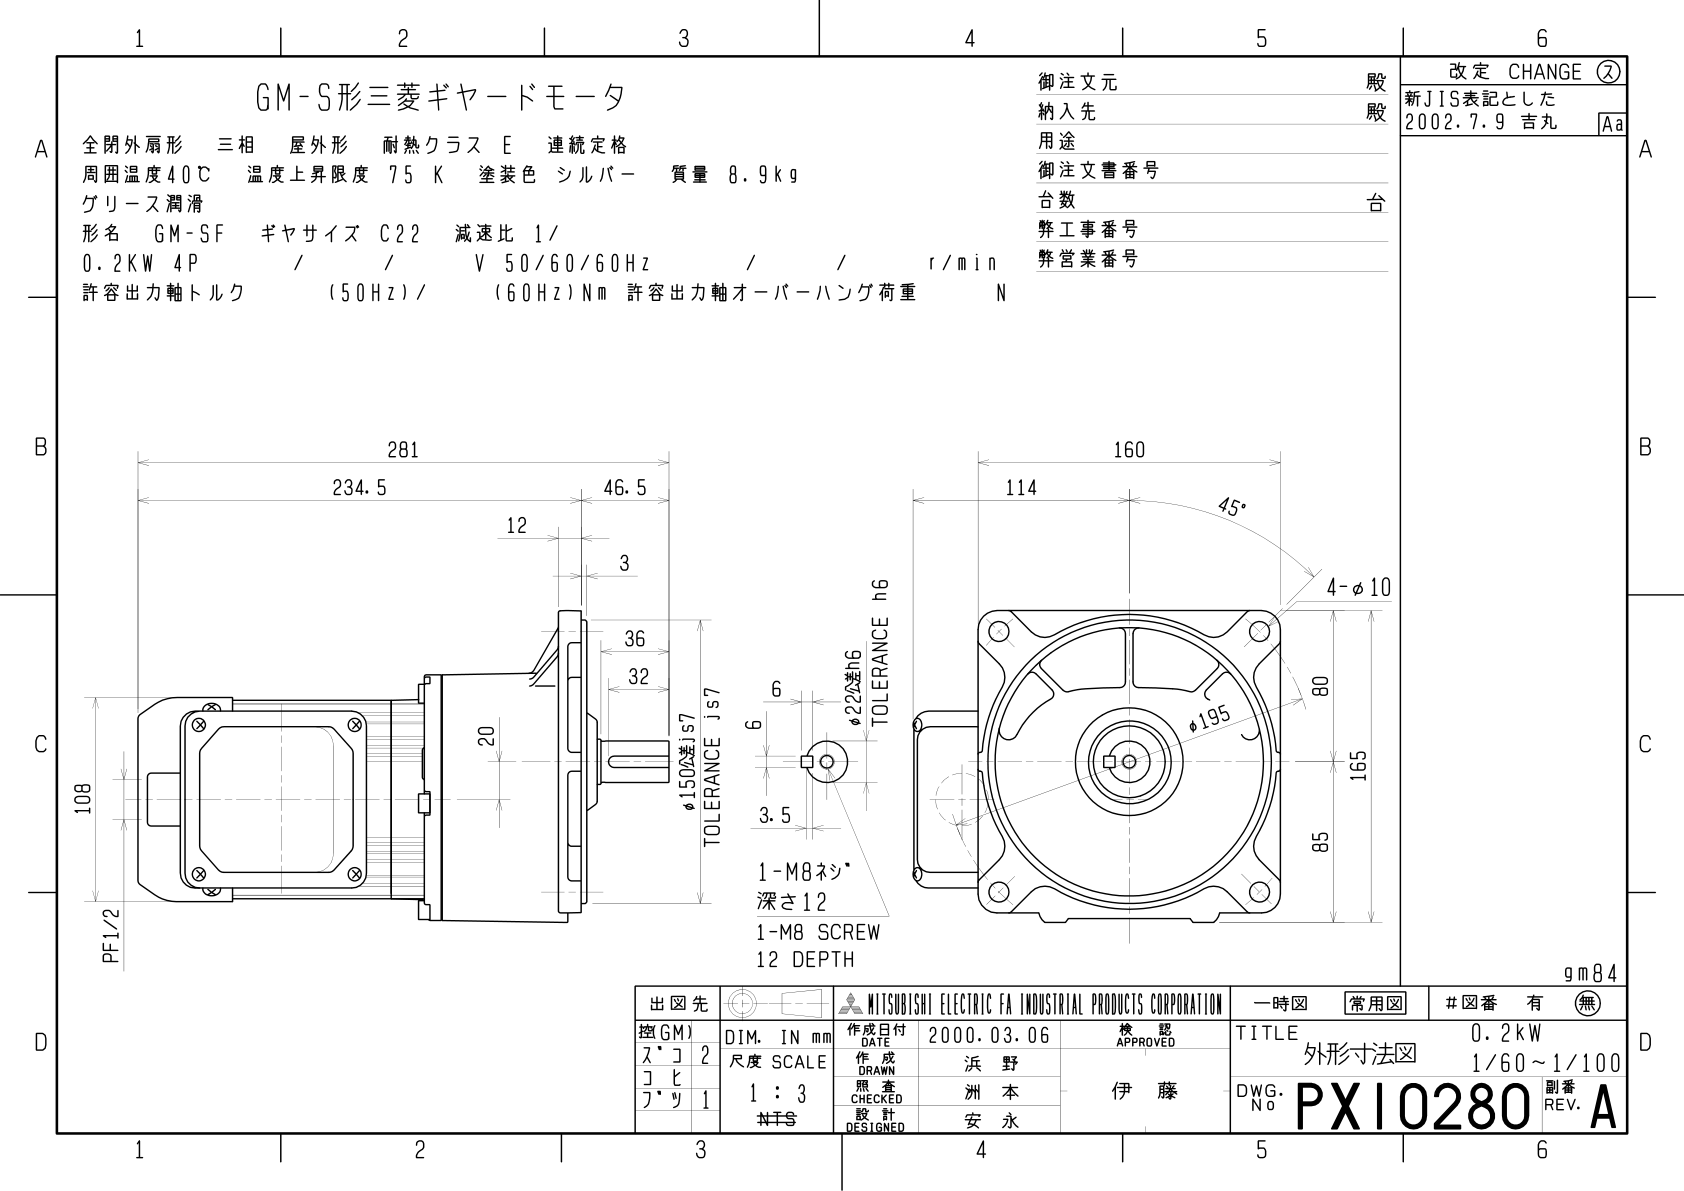GM_S_屋外＿三相_フランジ: (70, 402, 1401, 983)
